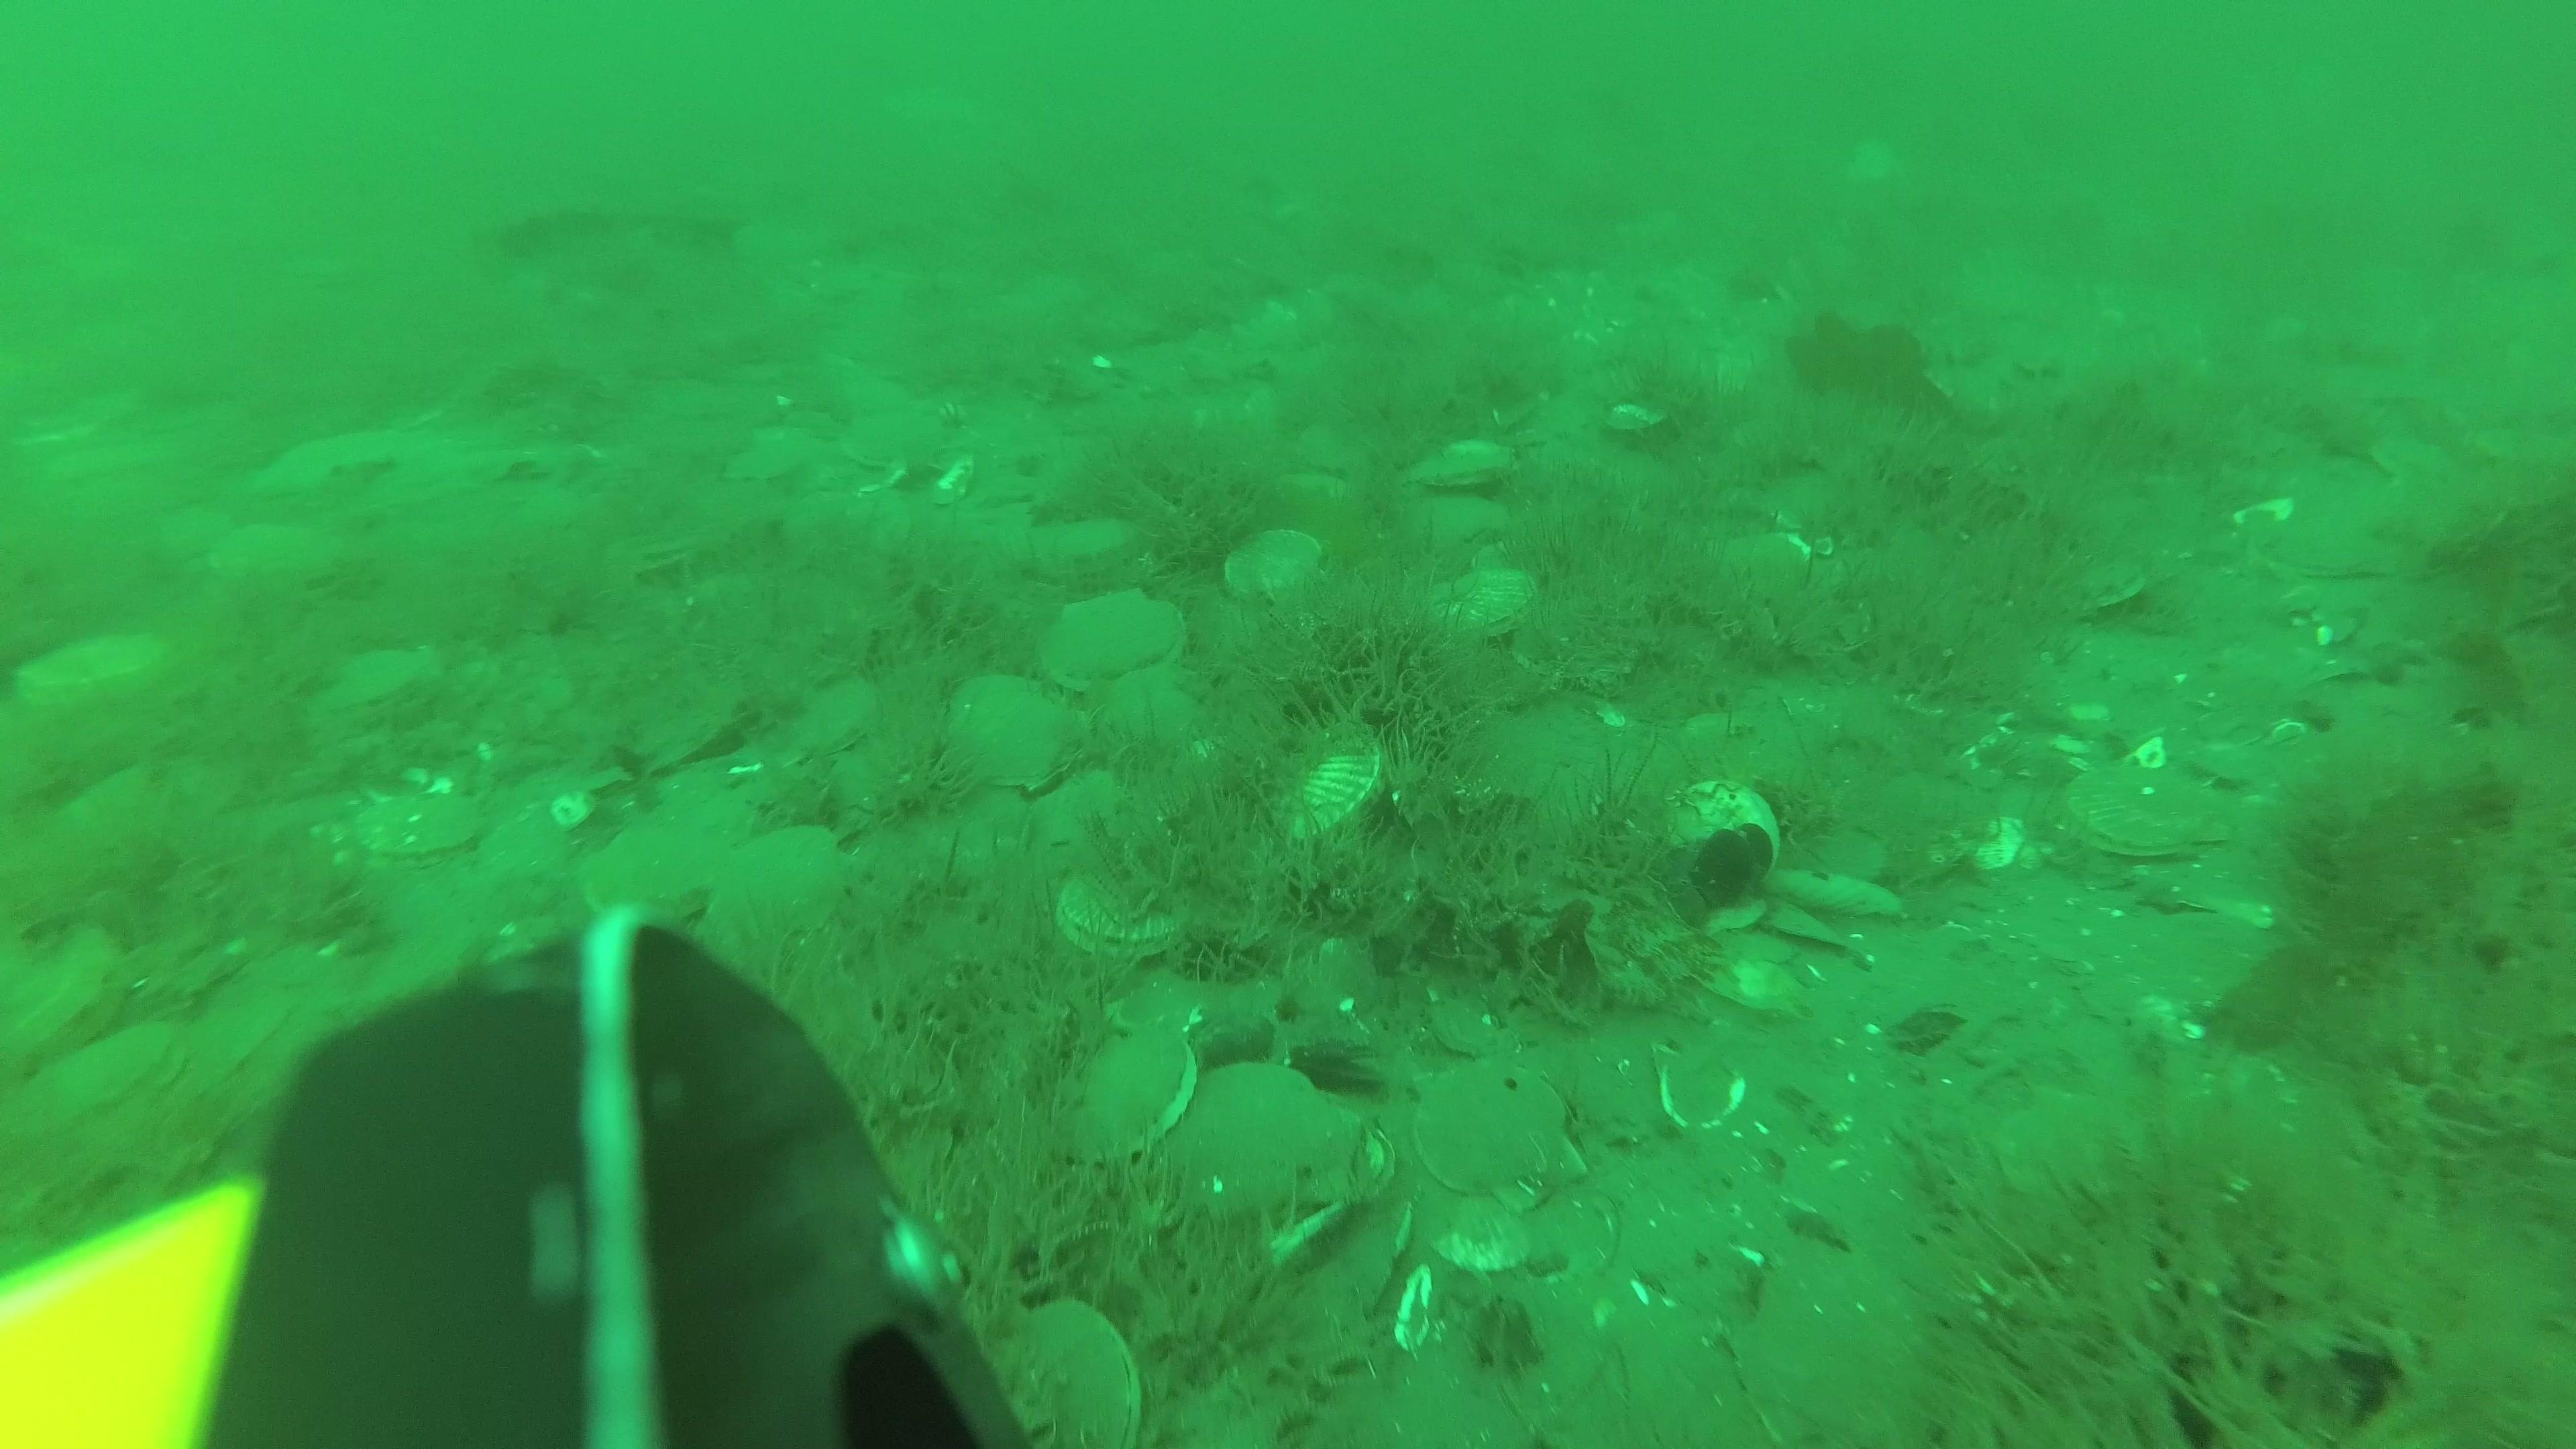scallop: (1162, 1067, 1343, 1214), (1428, 1054, 1594, 1212), (1000, 1299, 1155, 1449), (2063, 750, 2229, 863), (18, 1012, 177, 1129), (1077, 1026, 1196, 1182), (943, 671, 1079, 787), (709, 837, 851, 947), (1053, 863, 1200, 964), (582, 819, 711, 924), (25, 632, 180, 717), (1269, 725, 1385, 835), (356, 777, 483, 874), (1042, 591, 1185, 674), (1033, 770, 1145, 867), (1224, 518, 1323, 616), (313, 640, 425, 722), (1028, 508, 1143, 586), (211, 525, 324, 600), (793, 679, 883, 768), (1435, 564, 1529, 640), (842, 403, 941, 472), (1421, 433, 1523, 495)
